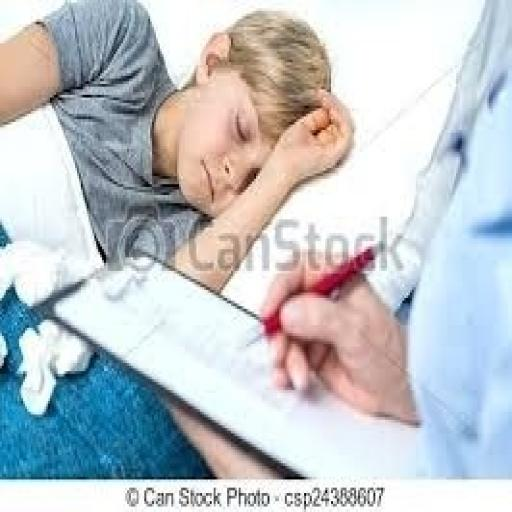sleeping: (163, 0, 510, 479), (0, 0, 356, 295)
